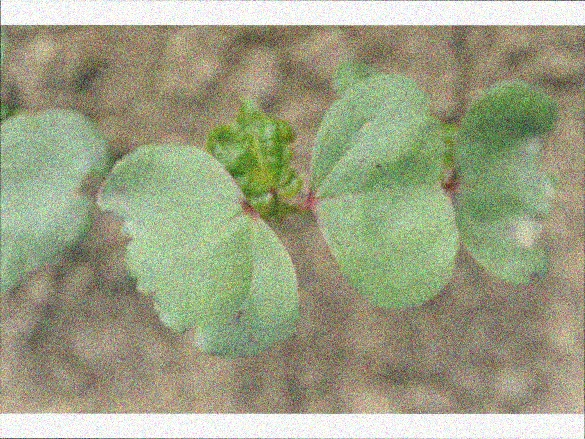cotton: (0, 71, 558, 355)
